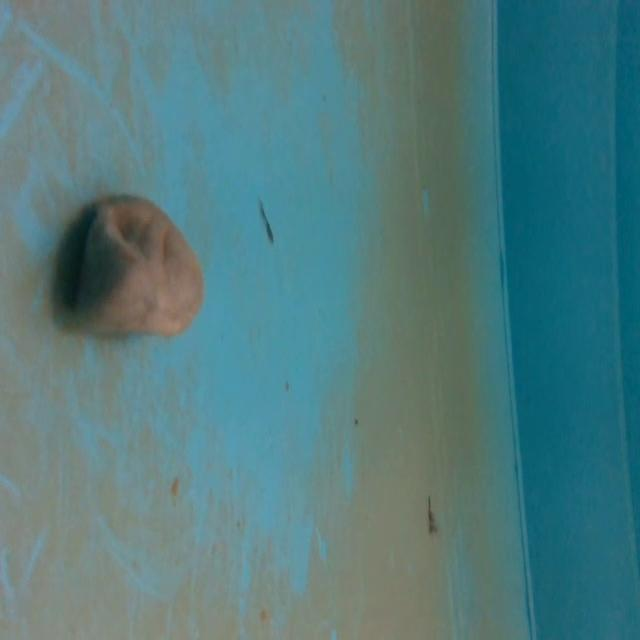rock: (58, 192, 213, 360)
